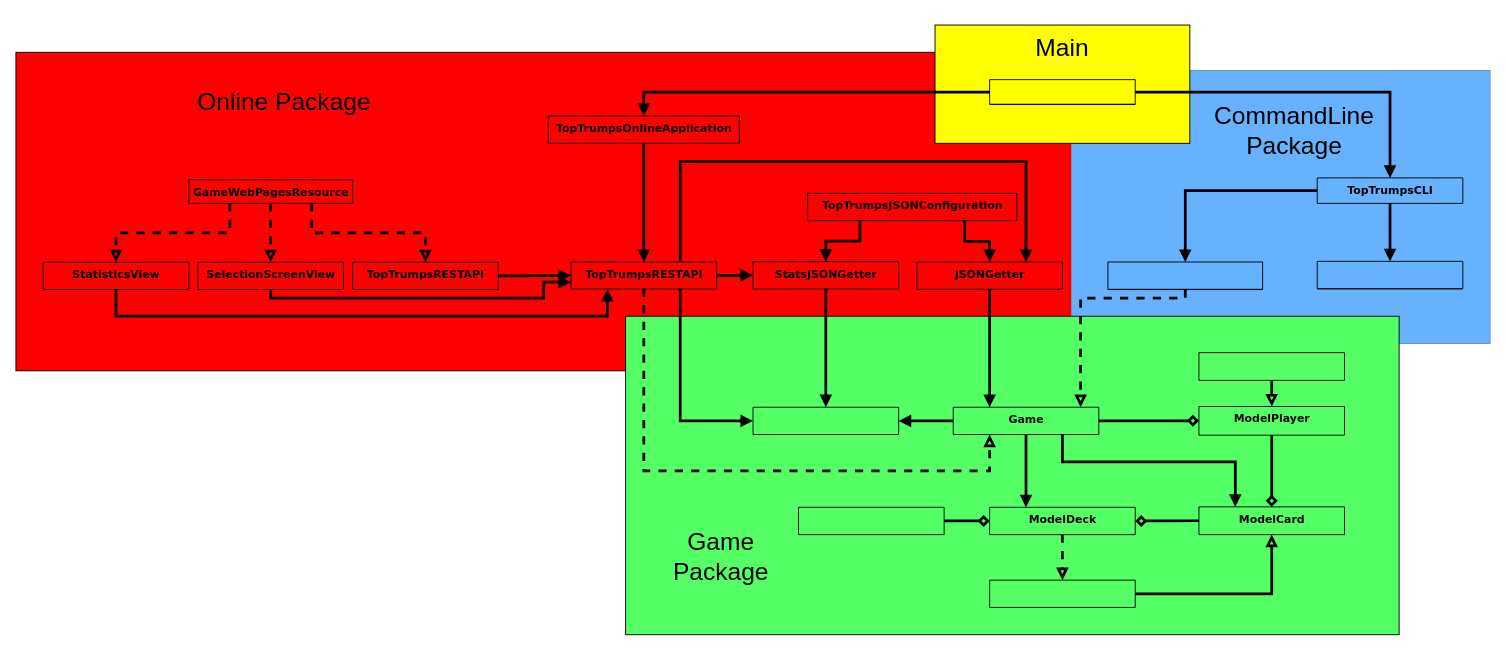
Some shapes in this 1506 by 651 pixel diagram are drawn without their labels. Each missing label, with the centre of its shape:
CommandLineController: the point at 1185,275
DatabaseQuery: the point at 825,420
Logger: the point at 1389,274
ModelAIPlayer: the point at 1271,366
ModelCommunalPile: the point at 1062,593
ModelDeckBuilder: the point at 871,520
TopTrumps: the point at 1062,92
